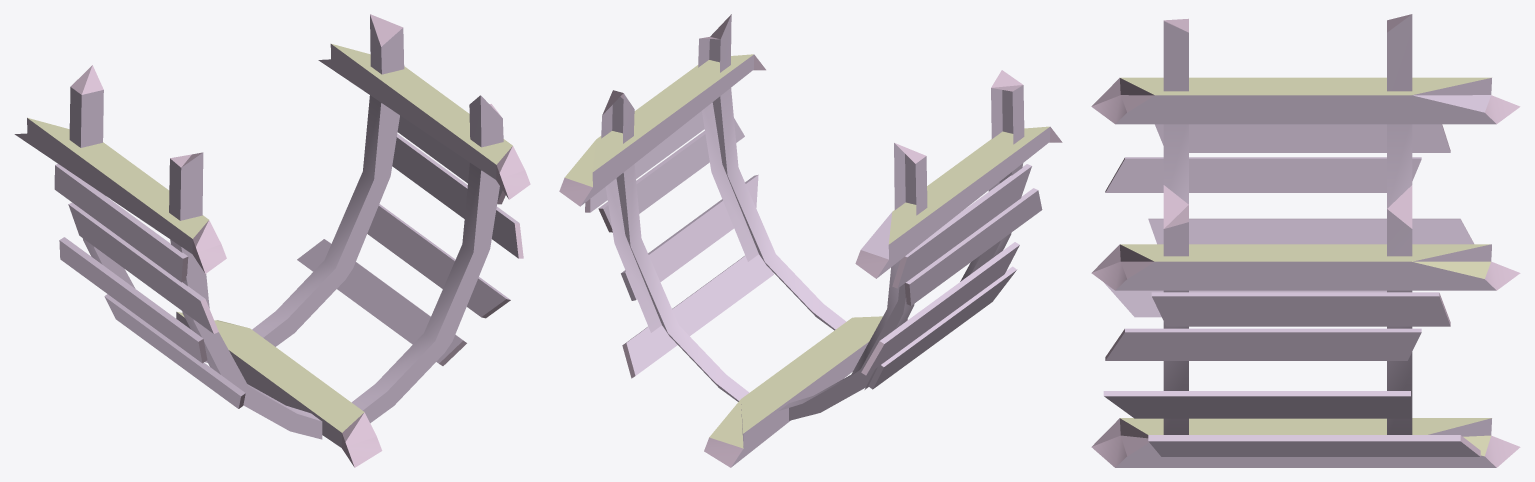
File: ytlds_Object (13).fbx
3 renders of one model, left to right at view 1: azimuth 30°, elevation 25°; view 2: azimuth 150°, elevation 25°; view 3: azimuth 270°, elevation 25°, orthographic. The views are drawn at different scales.
Visible parts, largest first — view 1: Object13; view 2: Object13; view 3: Object13.
Boxes of the visible parts, <box> form: Object13: <box>14,14,530,467</box>; Object13: <box>559,14,1062,467</box>; Object13: <box>1091,14,1520,467</box>.
Bounding box in the file's own units: 319 × 297 × 314.
